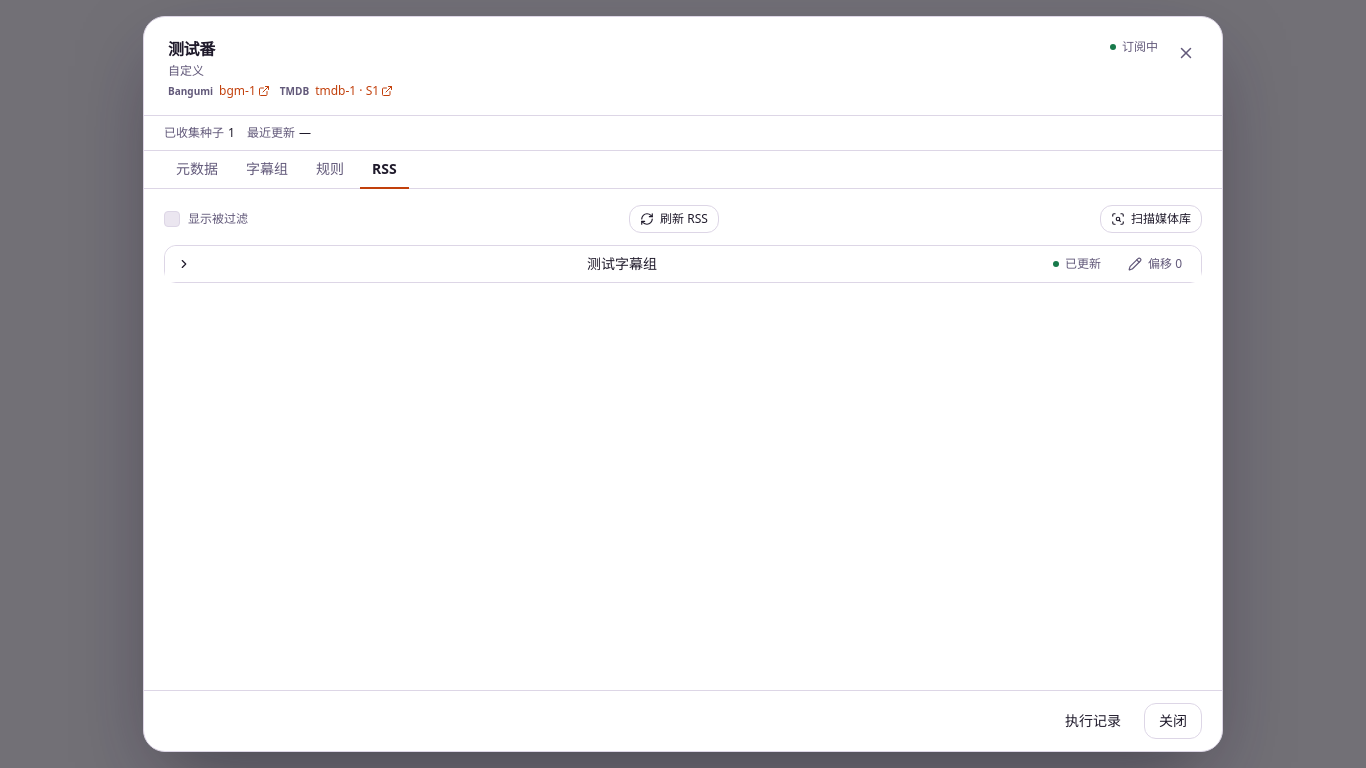
Test: AnimeConfigDialog subscribed workspace polling › updates the RSS read model in one open session and stops at the stable owner state
The image size is (1366, 768).
Click the button "测试字幕组 已更新" at (639, 264), box top-left (165, 246), bottom-right (1113, 282)
Wait 6000 ms
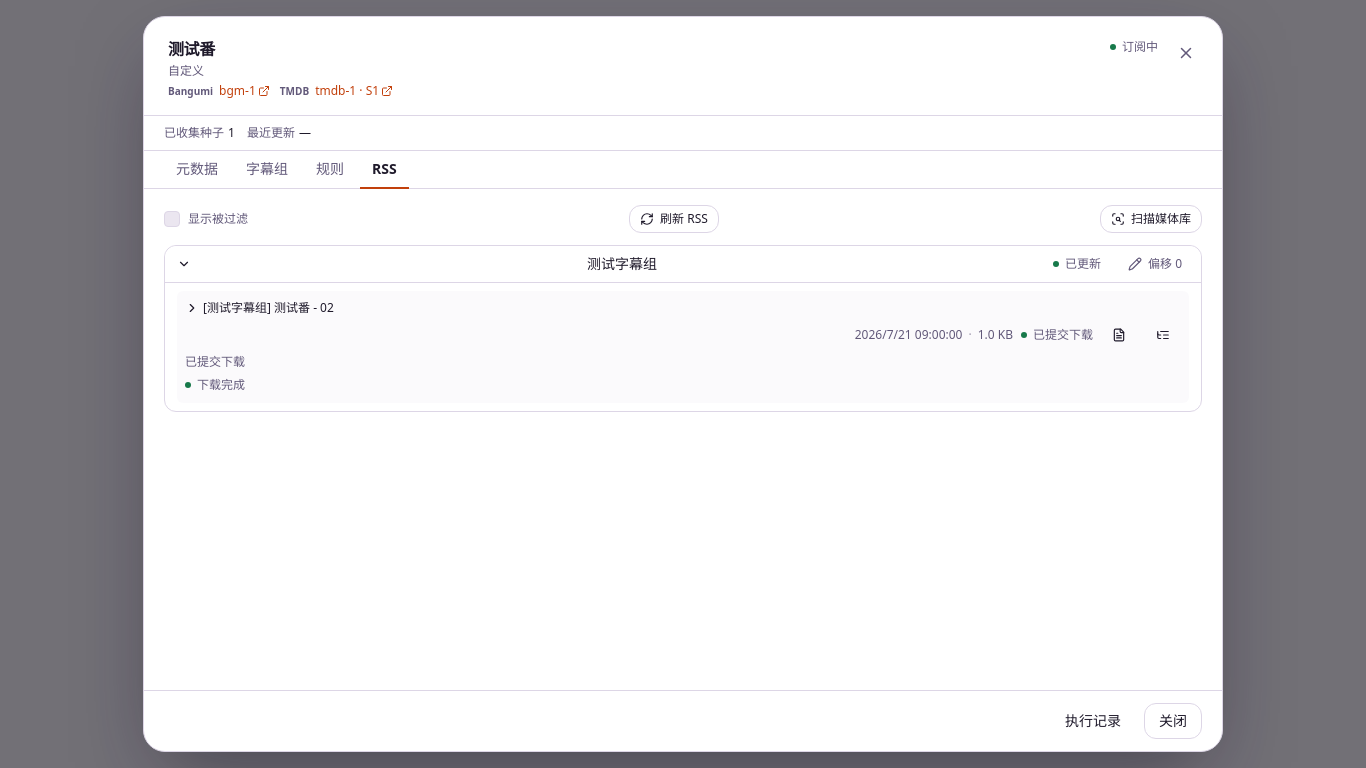
Now the text "[测试字幕组] 测试番 - 02" is shown, box top-left (203, 299), bottom-right (334, 317)
